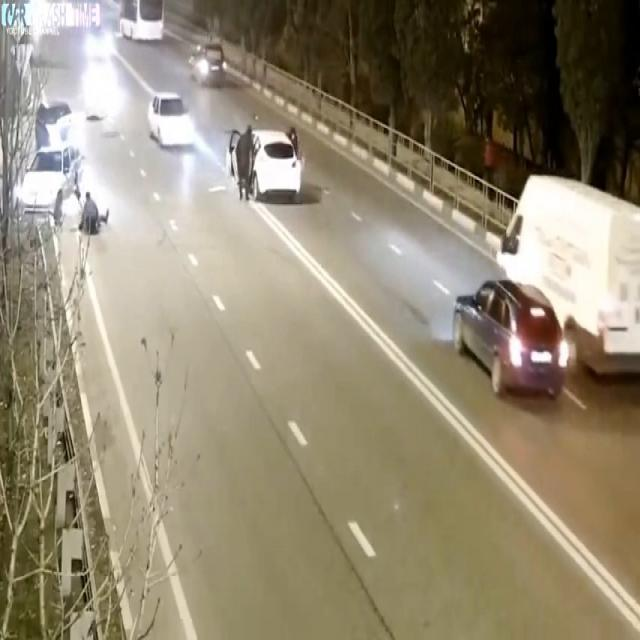Accident: (10, 78, 103, 238)
